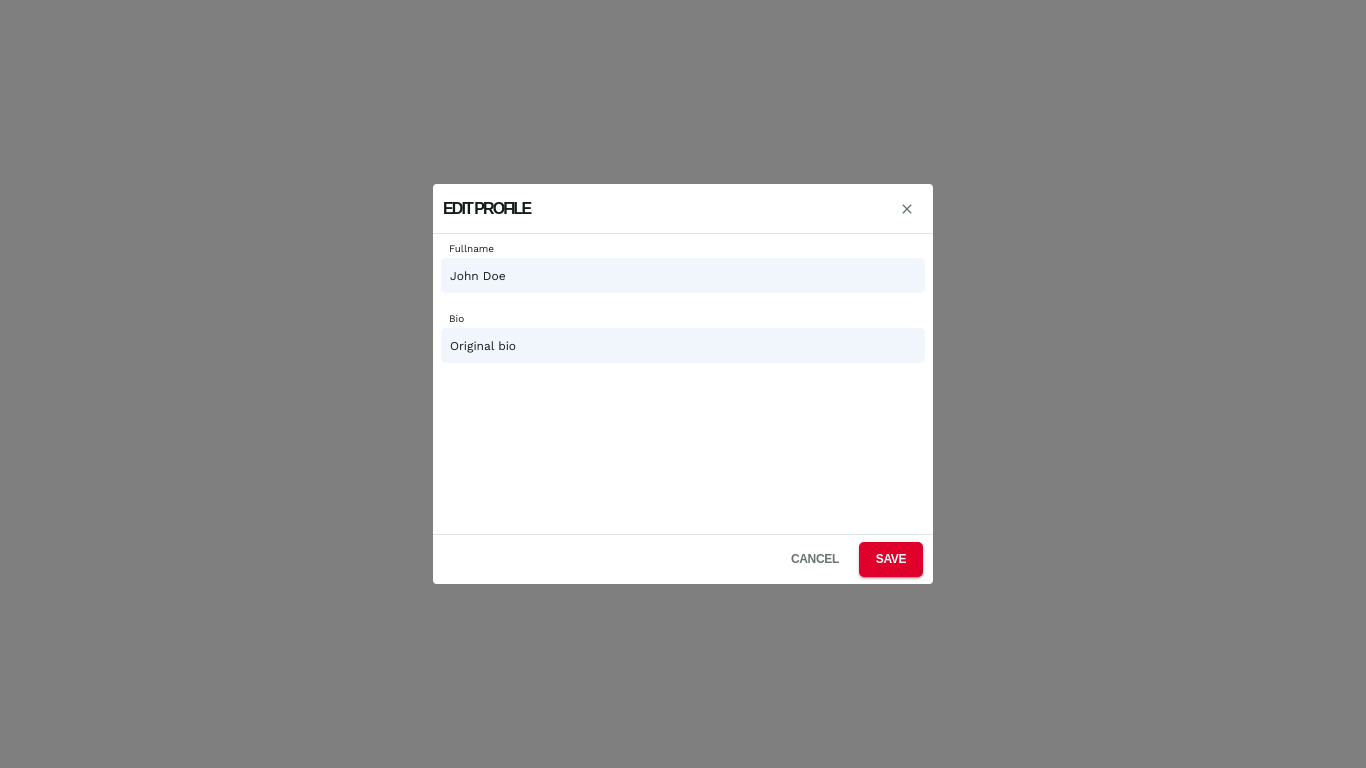
Scenario: EditUserModal › shows validation error for empty fullname
Clear the field named "fullName" below "Fullname" at (683, 276), box [441, 258, 925, 293]
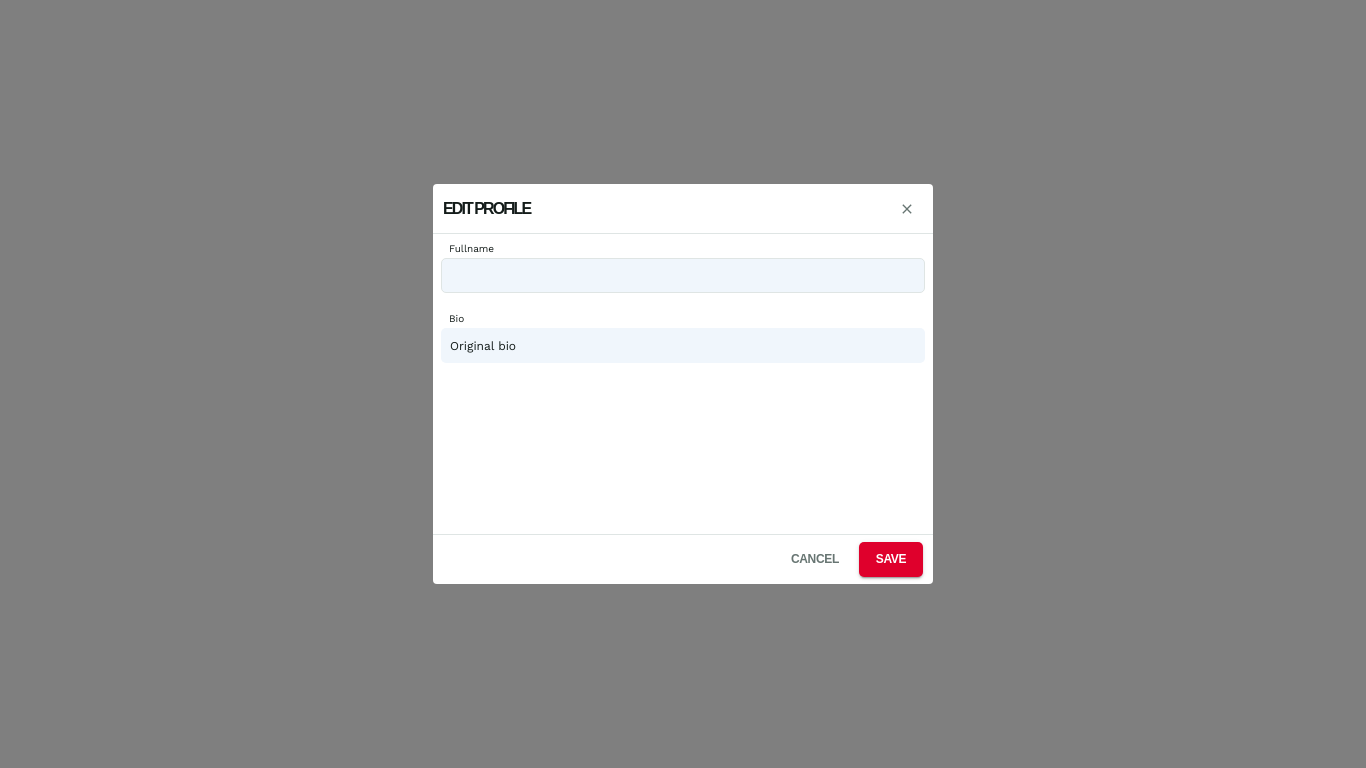
Click the button "SAVE".
click(891, 560)  # box [859, 542, 923, 577]
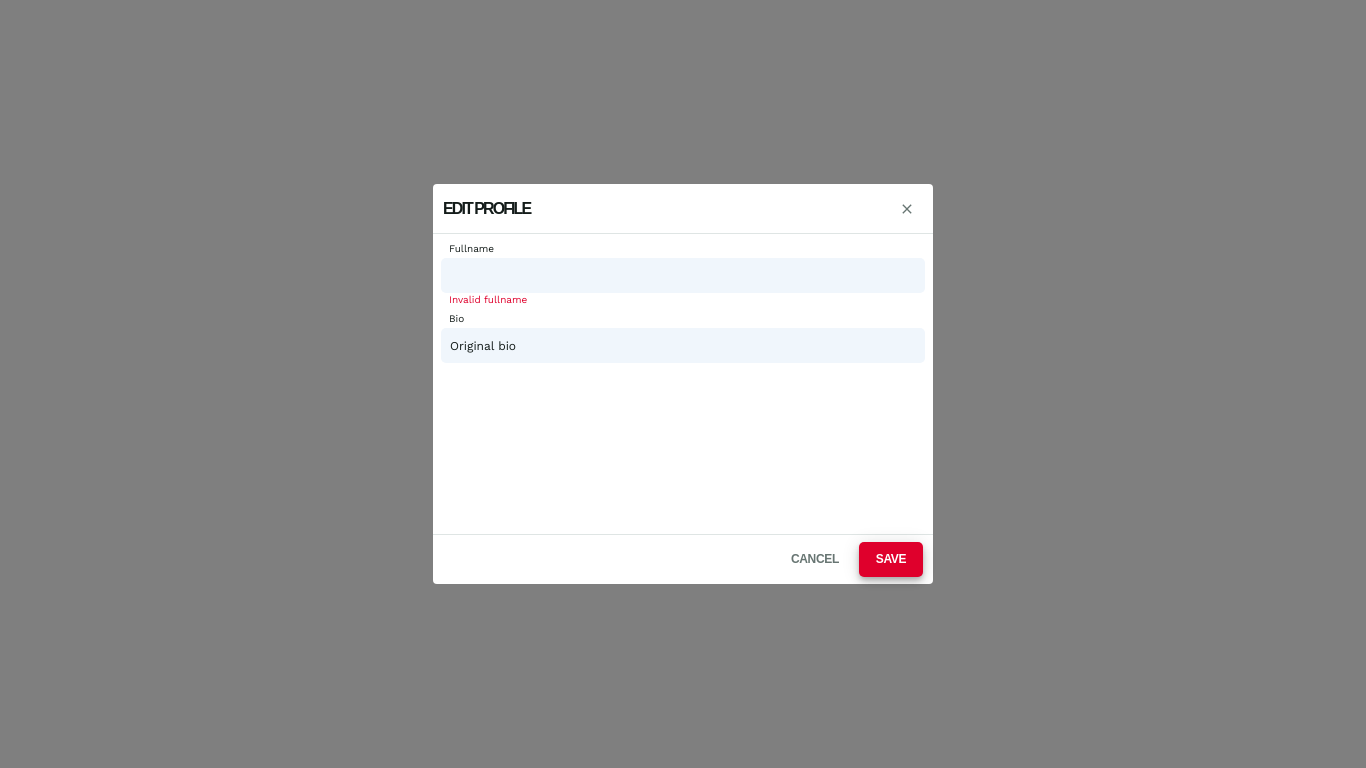
Now the text "Invalid fullname" is shown, box [449, 294, 527, 305]
